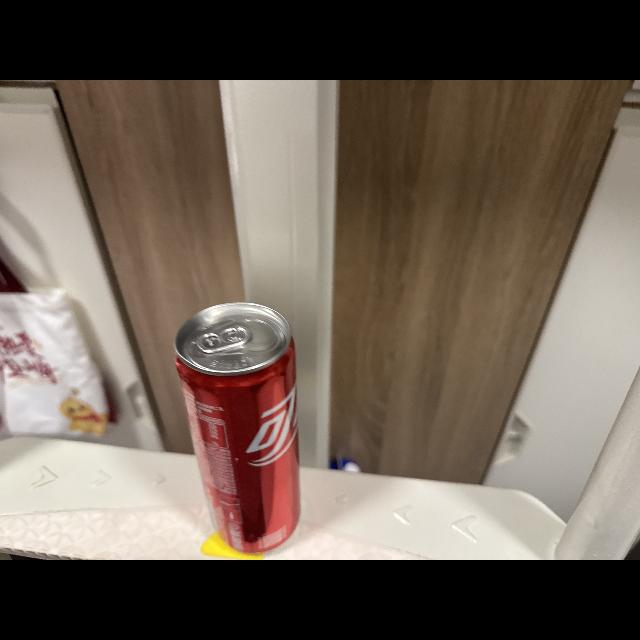Cola: (166, 294, 322, 556)
